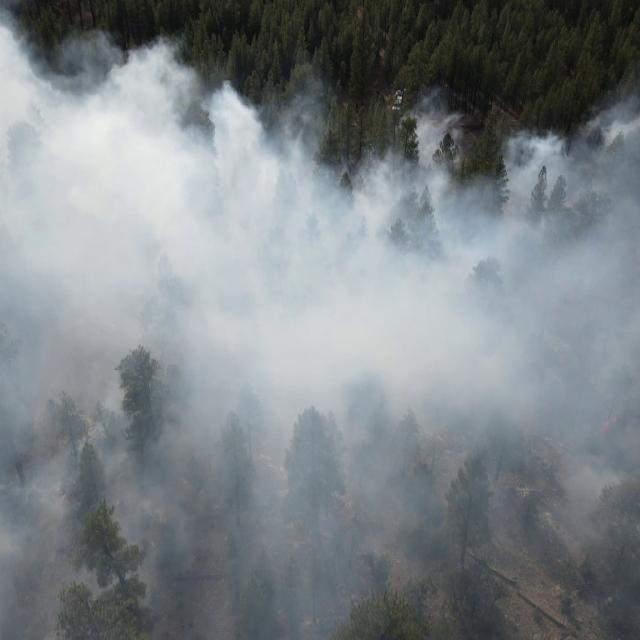fire: (585, 403, 621, 442)
smoke: (344, 166, 640, 640), (34, 40, 202, 640), (202, 66, 343, 640), (343, 85, 640, 166), (0, 1, 33, 640)
